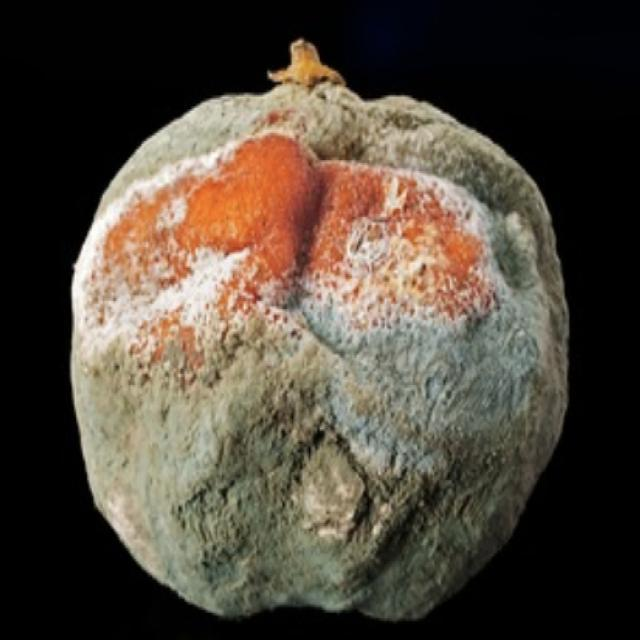sangat-busuk: (72, 41, 567, 619)
sedikit-busuk: (170, 136, 176, 145)
